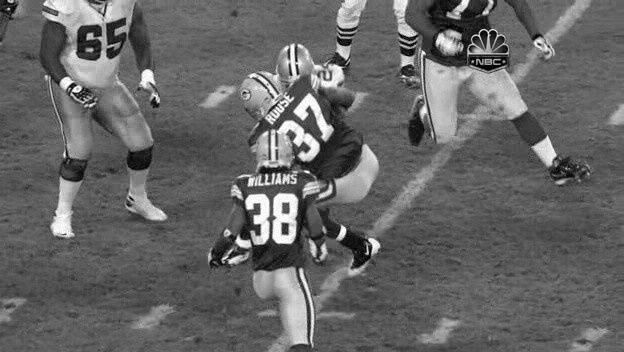person: (281, 45, 313, 86), (280, 45, 312, 86), (282, 45, 314, 86), (281, 44, 313, 85), (281, 46, 313, 87)
target_negative: (262, 176, 473, 346), (303, 125, 415, 250), (94, 233, 568, 257), (29, 221, 212, 279), (613, 30, 624, 246), (422, 319, 451, 342)
